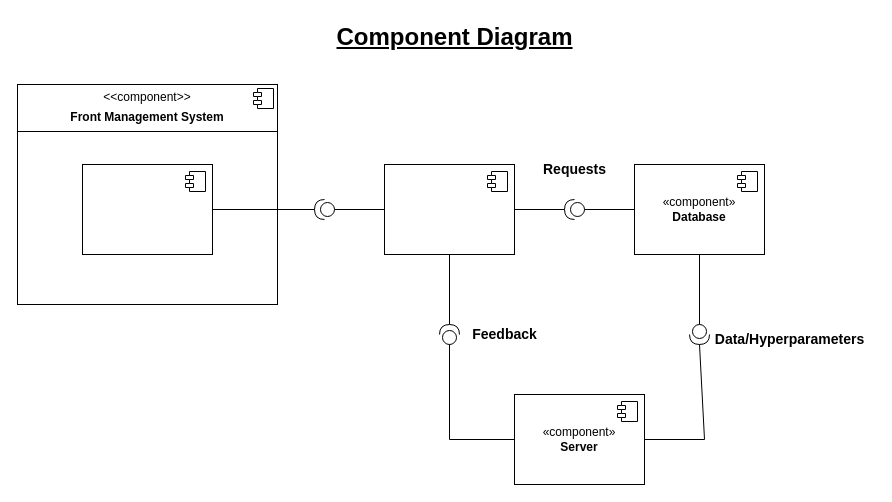
Some shapes in this 892 by 502 pixel diagram are drawn without their labels. The centre of each missing label's shape, as x and y in pixels:
«component» Fund Manager: point 147,209
«component» Tracking System: point 449,209
